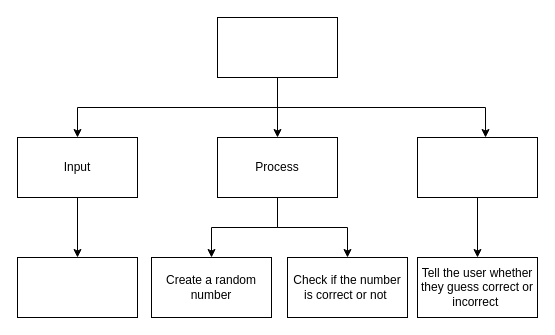
This 555x335 diagram has some shape labels left out. Here are the shapes that lost their labels. From the top down, the centre of each, then its label:
pixel 277 47: Guess the random number
pixel 477 167: Output
pixel 77 287: Get the number
